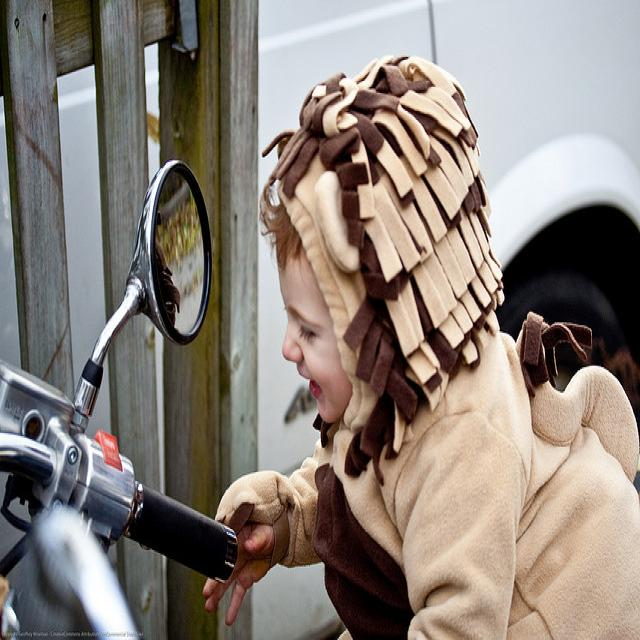motor: (4, 155, 242, 631)
